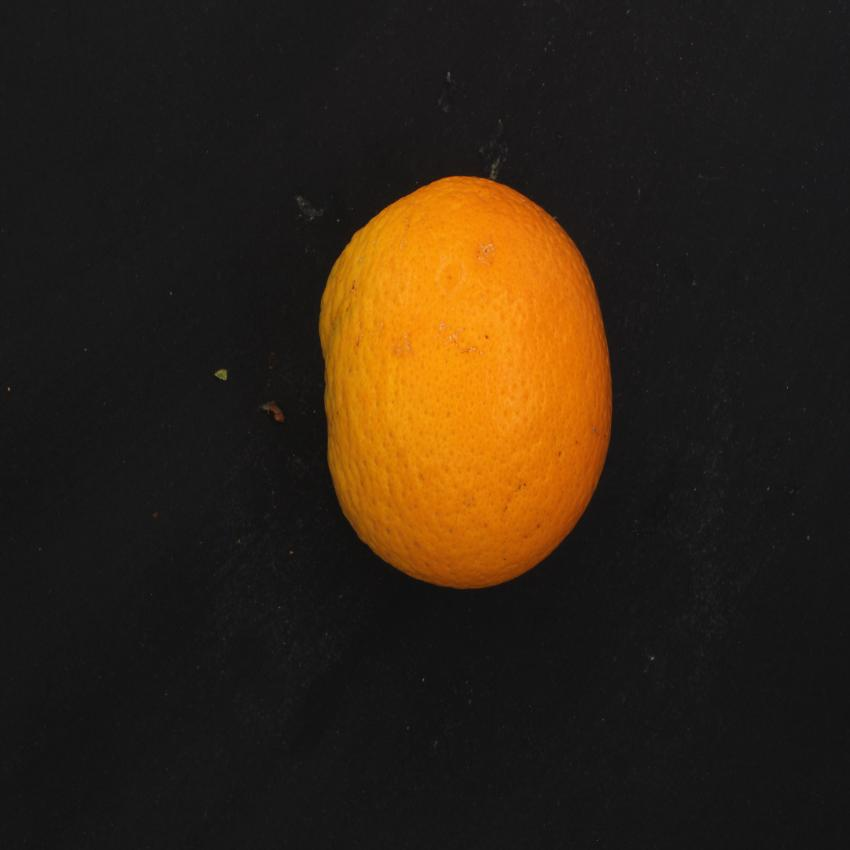Buen estado: (314, 166, 617, 606)
